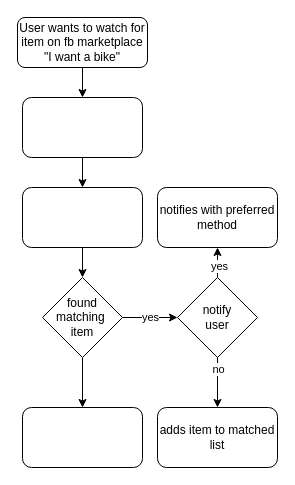
This 295x485 diagram has some shape labels left out. Here are the shapes that lost their labels. From the top down, the box of each, then its label:
(22, 96, 142, 158): User creates new item to search for eg. bike in title or description
(22, 186, 142, 248): FBMAS searches on an interval for these items
(22, 406, 142, 468): do nothing
